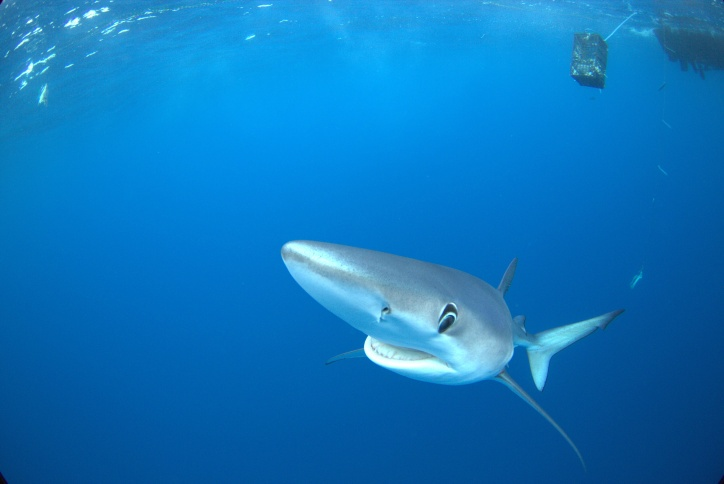Azul: (240, 225, 666, 474)
